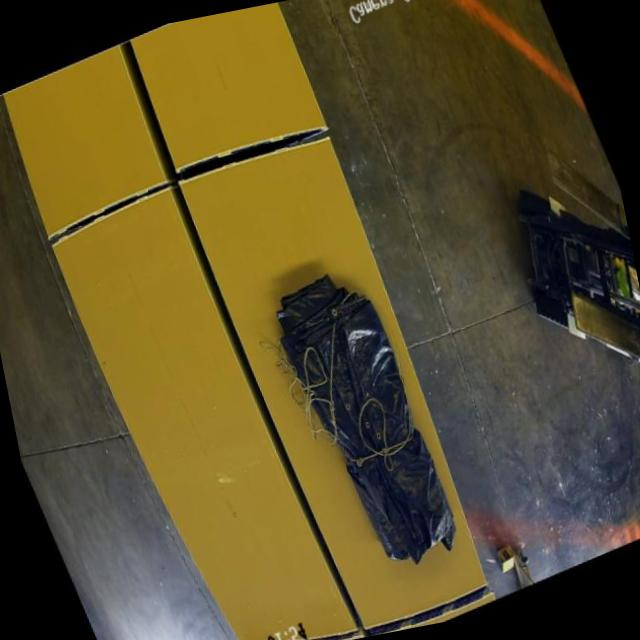driver: (609, 251, 640, 306)
forklift: (477, 134, 640, 457)
